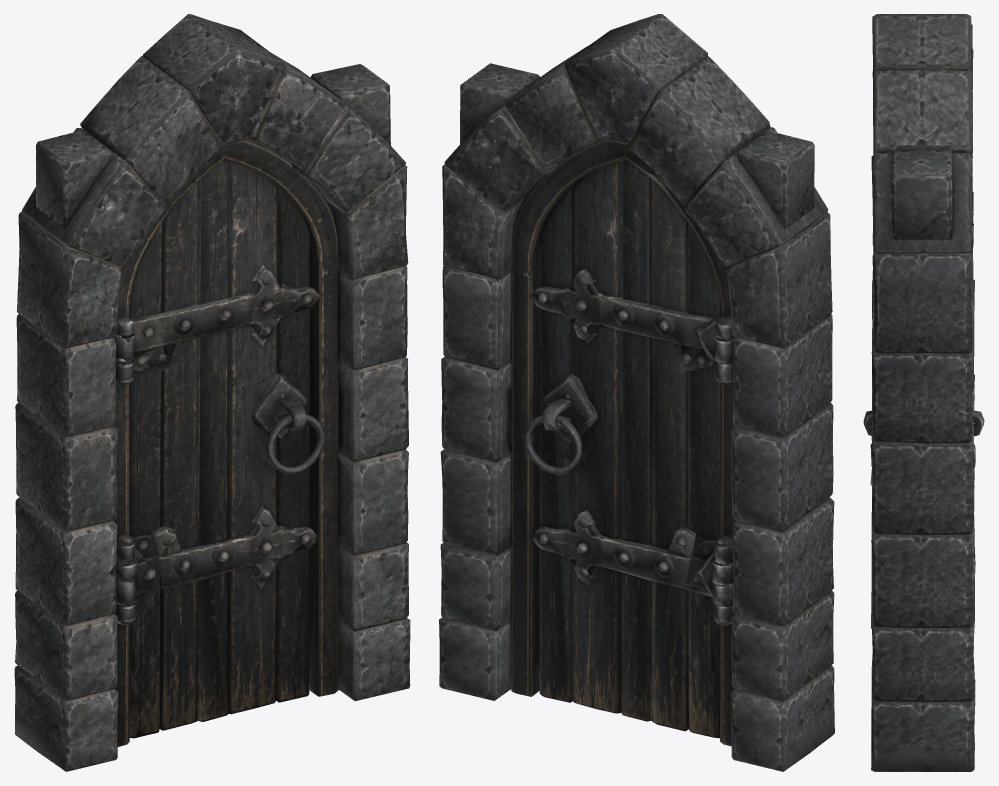
File: door_gothic_single_v1.glb
3 renders of one model, left to right at view 1: azimuth 30°, elevation 25°; view 2: azimuth 150°, elevation 25°; view 3: azimuth 270°, elevation 25°, orthographic.
Bounding box in the file's own units: 0.5341 × 1 × 0.1627.
Materials: 1 (1 with a texture image).
